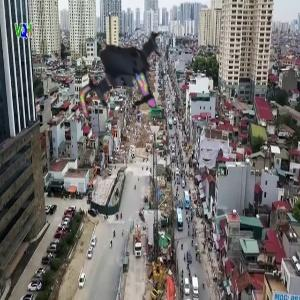drone: (69, 22, 182, 135)
